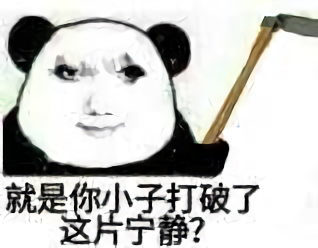dragon: (46, 51, 154, 145)
